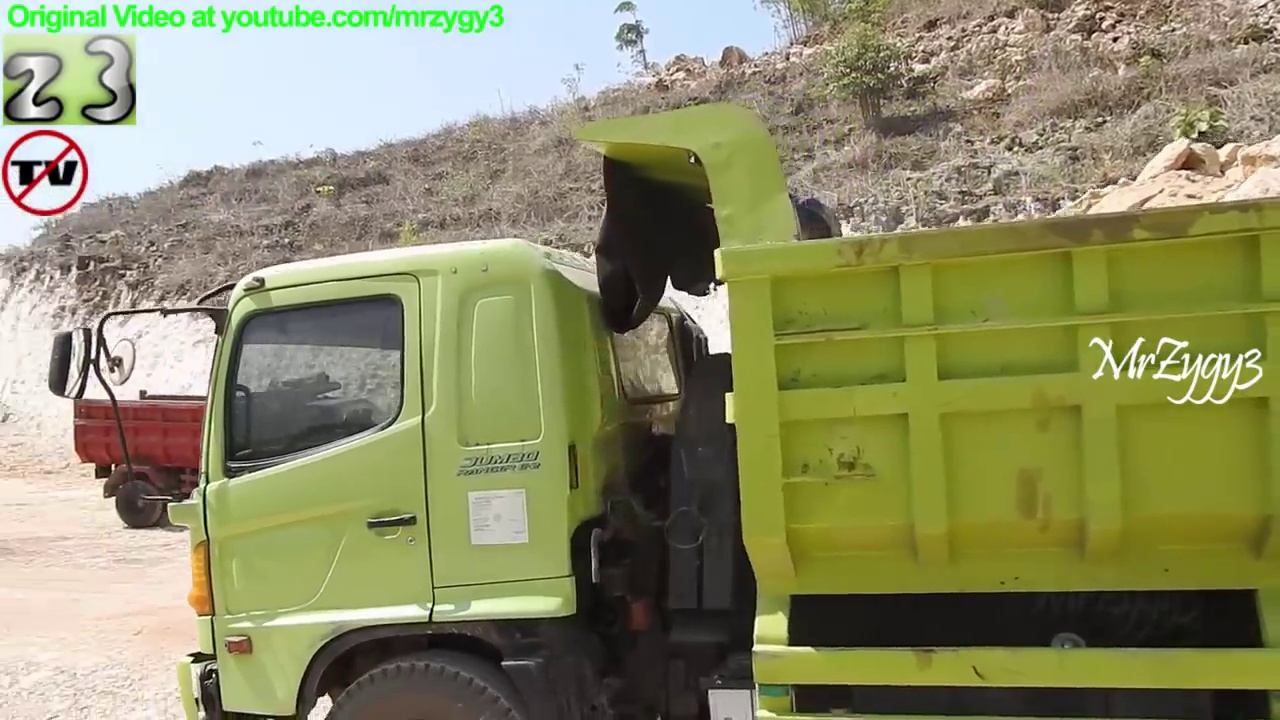truck: (40, 92, 1280, 720), (68, 369, 503, 538)
